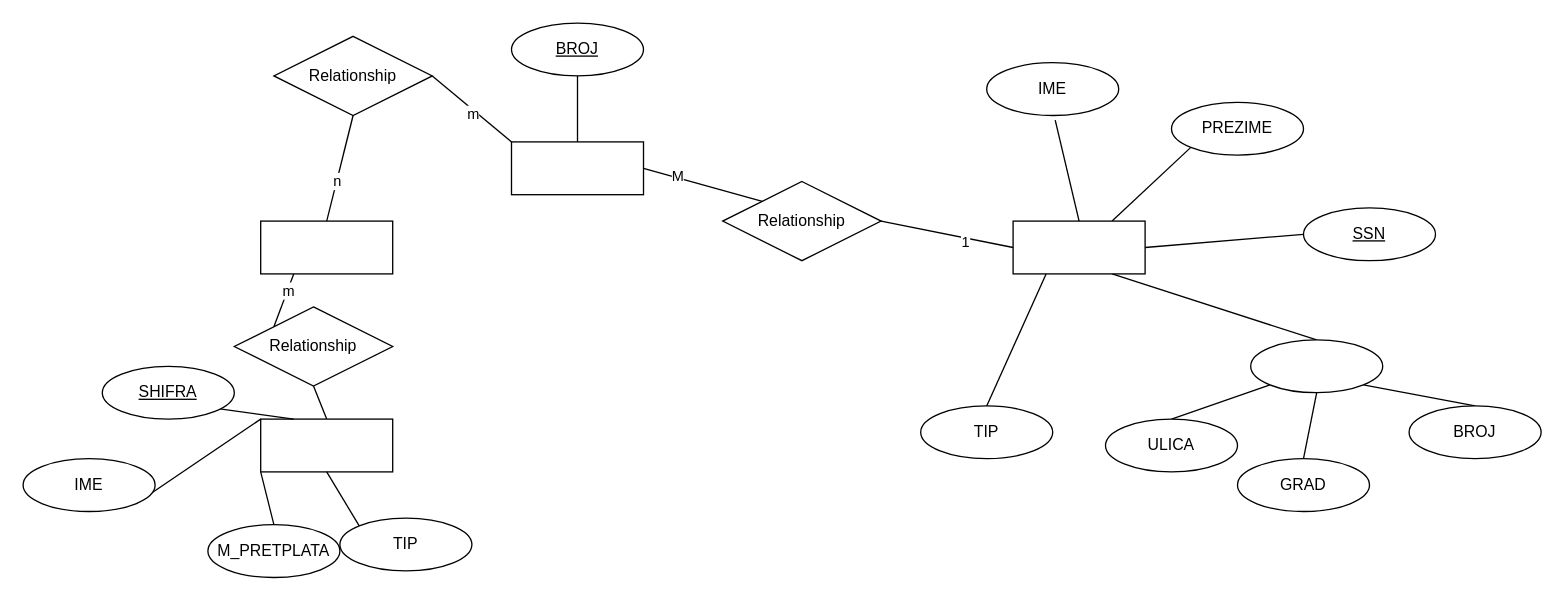
Some shapes in this 1564 by 601 pixel diagram are drawn without their labels. Each missing label, with the centre of its shape:
"ADRESA" belongs at point 1316,366.
"DOGOVOR" belongs at point 326,247.
"KORISNIK" belongs at point 1078,247.
"PAKET" belongs at point 326,445.
"TEL. BROJ" belongs at point 577,168.
